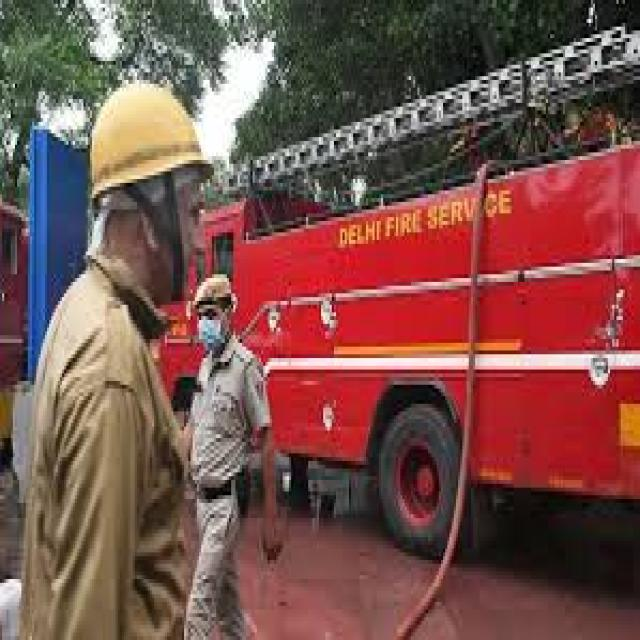Fire_brigade: (169, 149, 640, 537)
